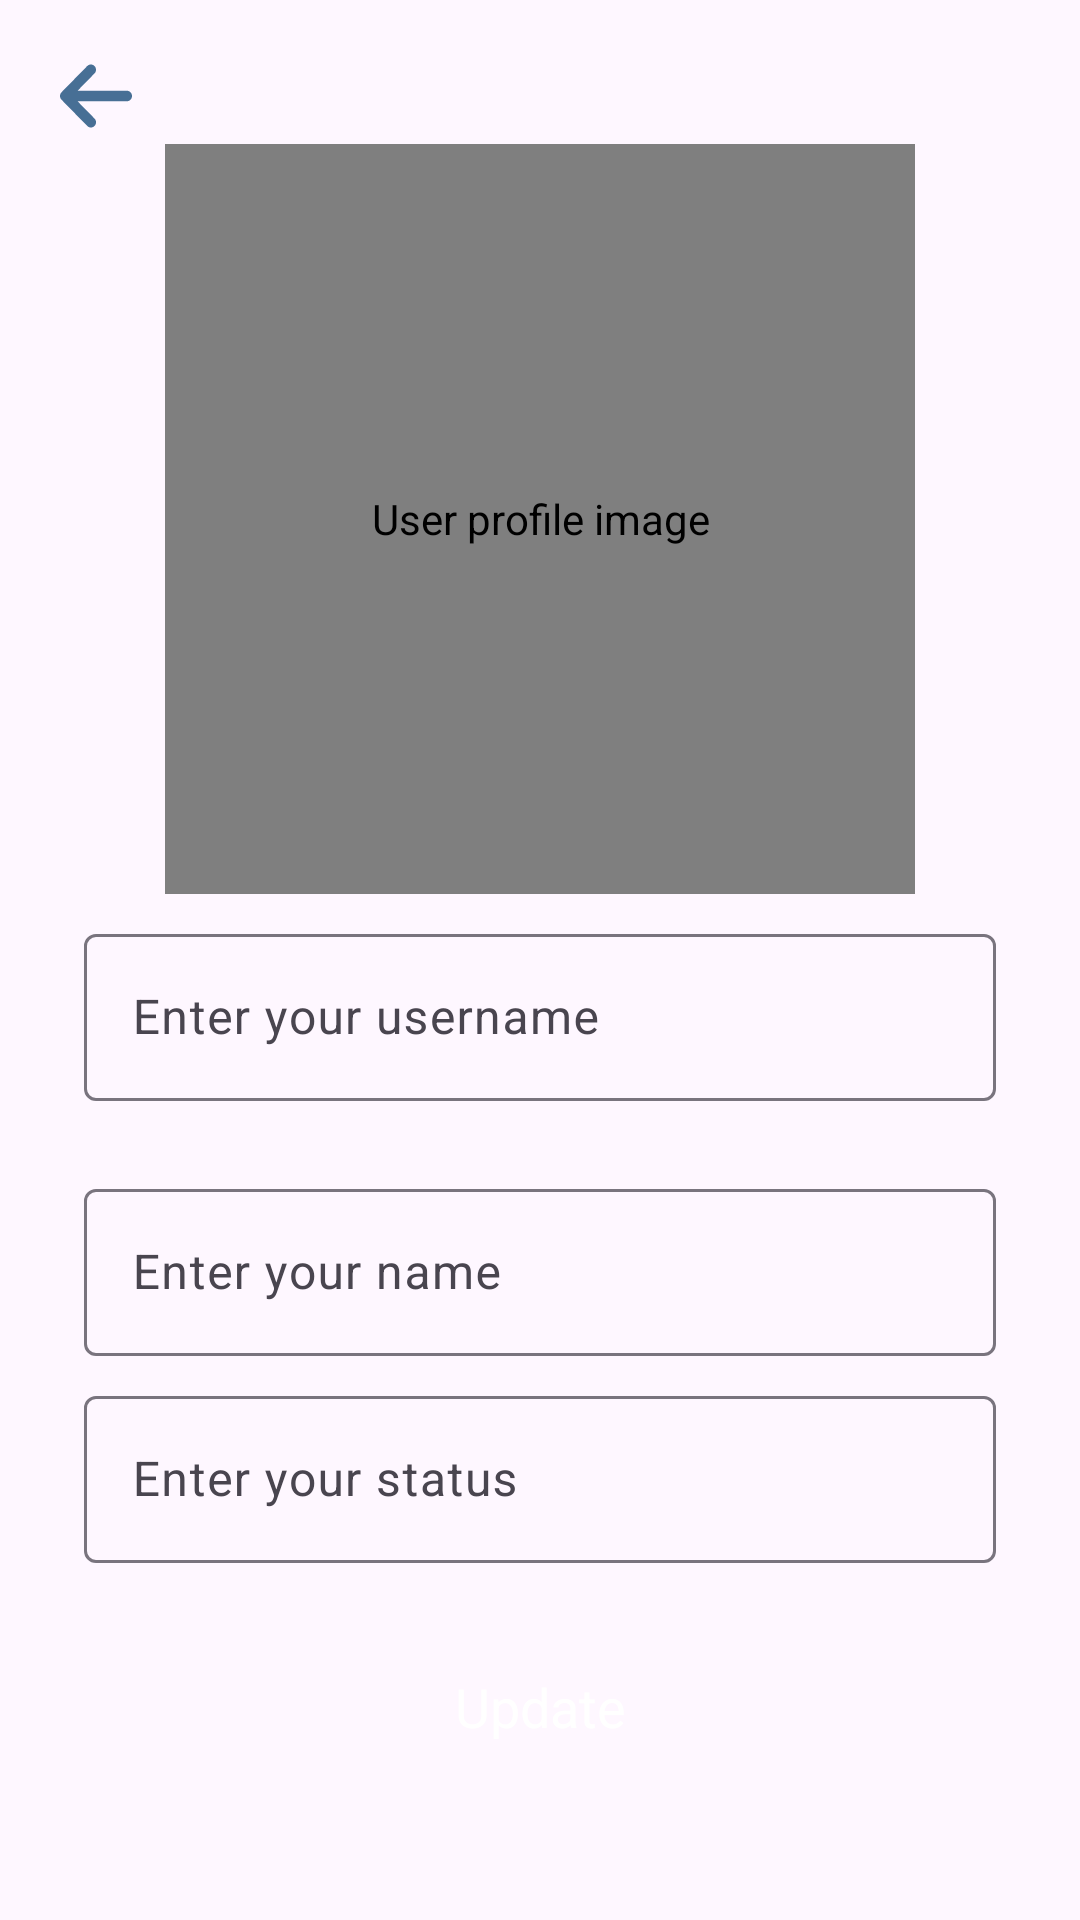

Point at icon controls on the screen. Image size 1080px×1920px, points as point (x, y).
Go back: point (96, 96)
